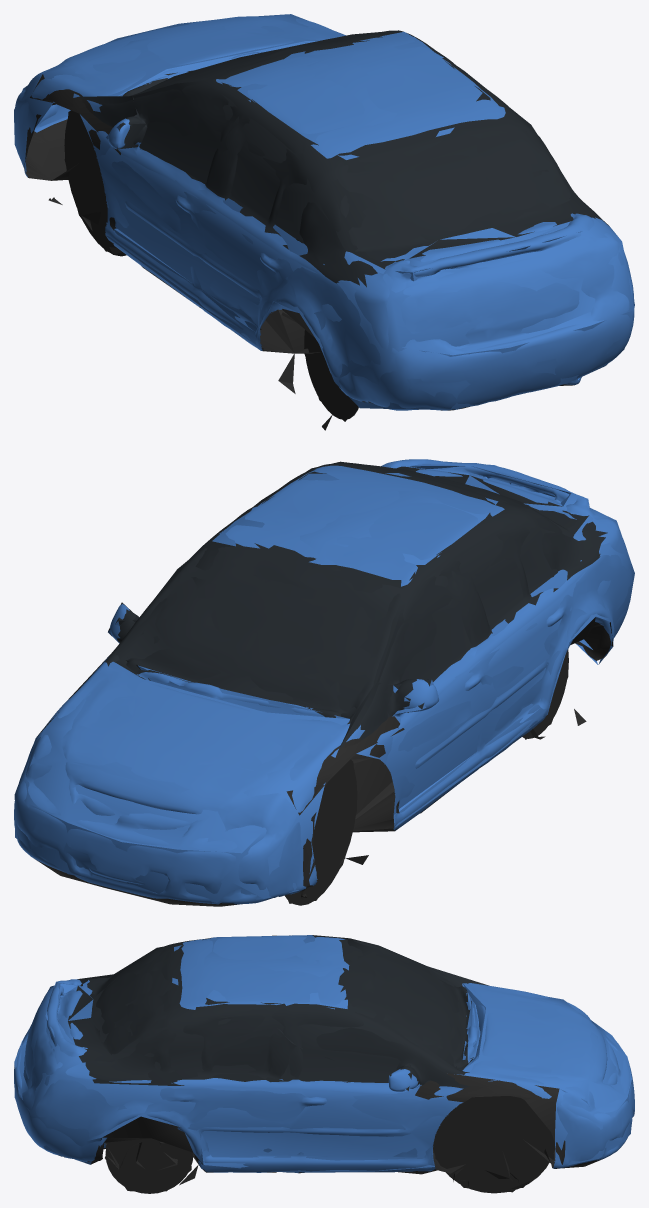
Rendered from chevrolet-cobalt.glb.
The picture shows the model from 3 angles, top to bottom: view 1: azimuth 30°, elevation 25°; view 2: azimuth 150°, elevation 25°; view 3: azimuth 270°, elevation 25°; orthographic projection. The views are drawn at different scales.
Parts seen in each view (by area): view 1: body, far; view 2: body, far; view 3: body, far.
Part boxes in pixels (x1,y1,x2,y2): body: (14, 16, 634, 430); far: (14, 14, 634, 421); body: (14, 459, 631, 906); far: (14, 461, 634, 903); body: (14, 935, 634, 1193); far: (14, 935, 634, 1192).
Bounding box in the file's own units: 2.06 × 1.53 × 4.5.
